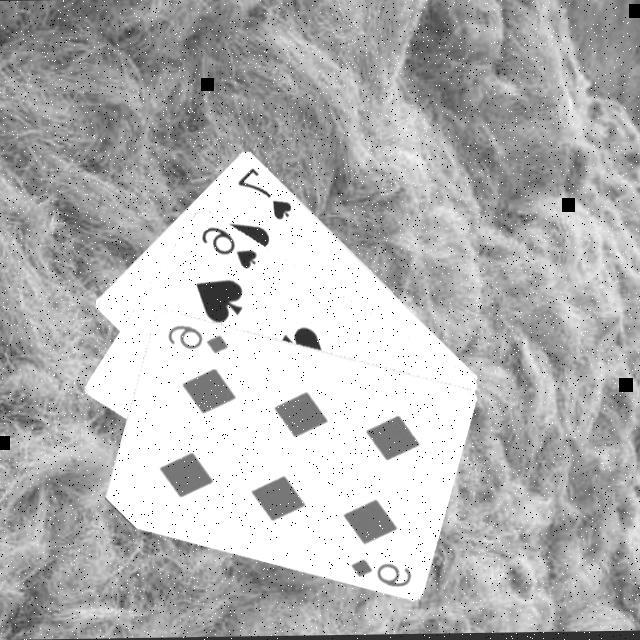6D: (165, 321, 233, 358), (348, 556, 416, 593)
6S: (198, 223, 262, 275)
7S: (235, 164, 297, 225)
